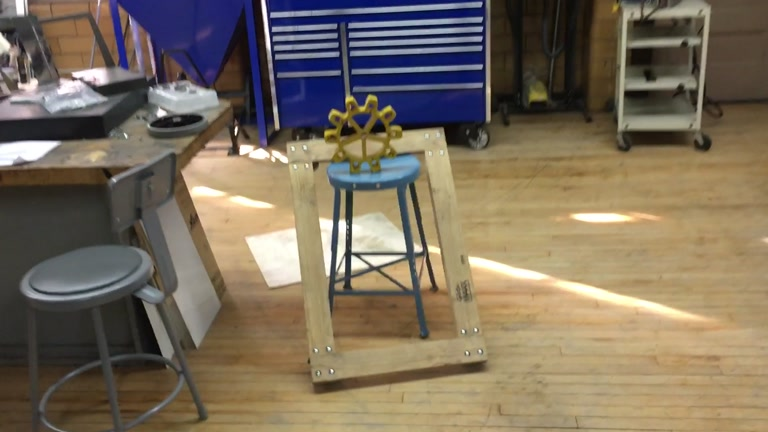gear: (322, 91, 402, 177)
